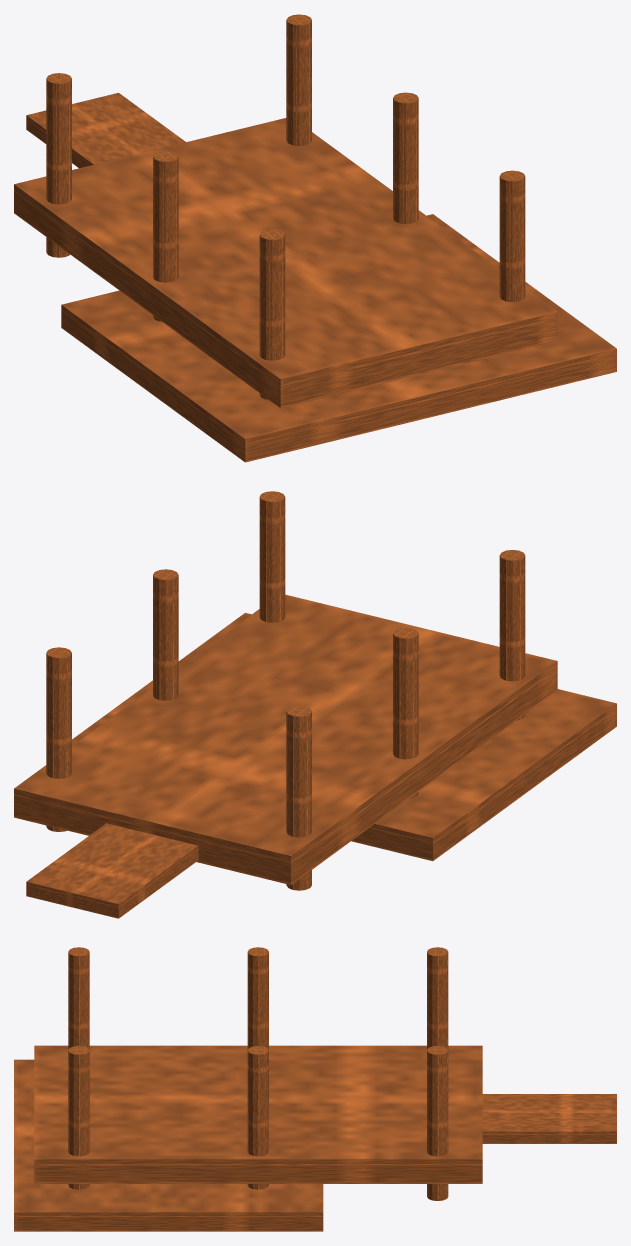
The model's file is ferry_dock_01.glb.
The picture shows the model from 3 angles, top to bottom: view 1: azimuth 30°, elevation 25°; view 2: azimuth 150°, elevation 25°; view 3: azimuth 270°, elevation 25°; orthographic projection. The views are drawn at different scales.
Visible parts, largest first — view 1: Dock, Foundation, Gangway, Mooring.002, Mooring, Mooring.003, Mooring.001, Mooring.005, Mooring.004; view 2: Dock, Foundation, Gangway, Mooring.002, Mooring, Mooring.003, Mooring.005, Mooring.001, Mooring.004; view 3: Dock, Foundation, Gangway, Mooring.005, Mooring.003, Mooring.004, Mooring, Mooring.001, Mooring.002.
Boxes of the visible parts, x1=… form: Dock: x1=14, y1=118, x2=557, y2=408; Foundation: x1=61, y1=214, x2=616, y2=462; Gangway: x1=26, y1=92, x2=185, y2=168; Mooring.002: x1=46, y1=73, x2=71, y2=257; Mooring: x1=259, y1=229, x2=285, y2=399; Mooring.003: x1=499, y1=170, x2=525, y2=301; Mooring.001: x1=153, y1=151, x2=178, y2=321; Mooring.005: x1=286, y1=14, x2=311, y2=145; Mooring.004: x1=393, y1=92, x2=418, y2=223; Dock: x1=14, y1=594, x2=557, y2=884; Foundation: x1=72, y1=612, x2=616, y2=860; Gangway: x1=26, y1=823, x2=198, y2=918; Mooring.002: x1=286, y1=706, x2=311, y2=890; Mooring: x1=499, y1=550, x2=525, y2=720; Mooring.003: x1=259, y1=491, x2=285, y2=622; Mooring.005: x1=46, y1=647, x2=71, y2=831; Mooring.001: x1=393, y1=628, x2=418, y2=798; Mooring.004: x1=153, y1=569, x2=178, y2=700; Dock: x1=34, y1=1045, x2=482, y2=1183; Foundation: x1=14, y1=1059, x2=323, y2=1231; Gangway: x1=482, y1=1094, x2=616, y2=1143; Mooring.005: x1=427, y1=1045, x2=448, y2=1200; Mooring.003: x1=68, y1=1046, x2=89, y2=1189; Mooring.004: x1=247, y1=1045, x2=268, y2=1189; Mooring: x1=68, y1=947, x2=89, y2=1049; Mooring.001: x1=247, y1=947, x2=268, y2=1049; Mooring.002: x1=427, y1=947, x2=448, y2=1049.
Bounding box in the file's own units: 4.03 × 1.9 × 6.73.
Materials: 1 (1 with a texture image).
